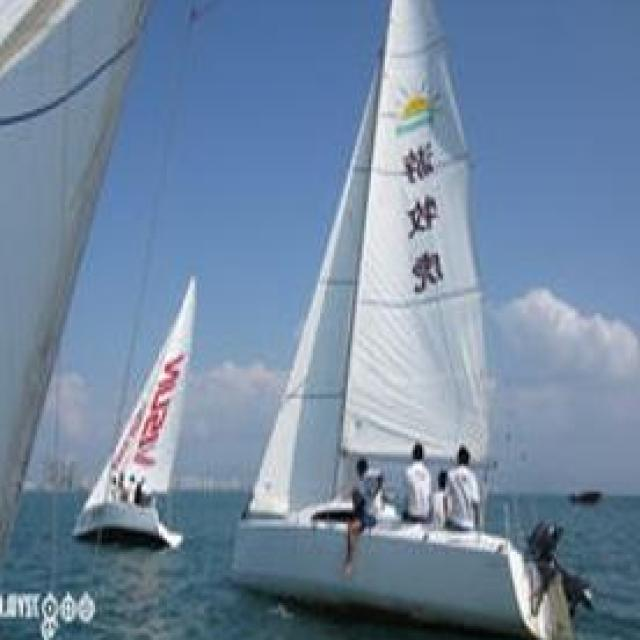sailboat: (228, 0, 594, 635), (69, 268, 208, 544)
